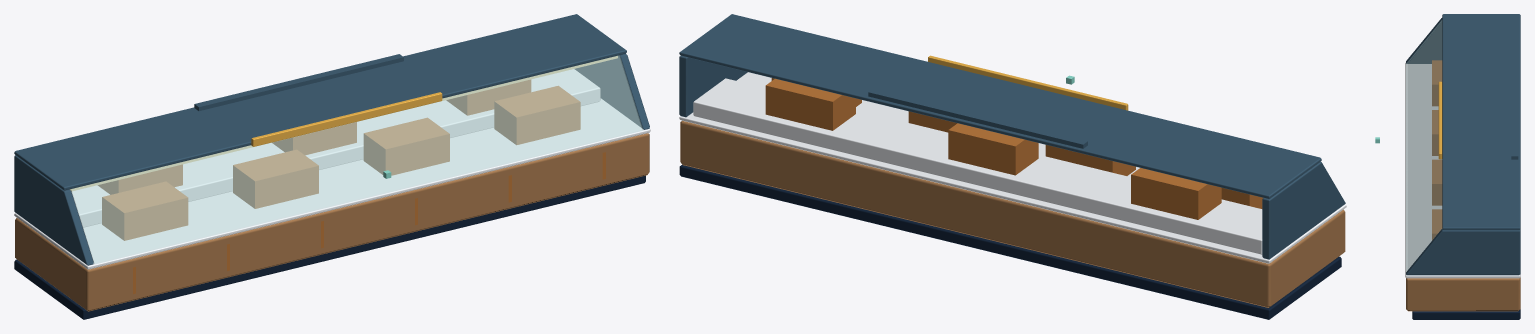
Rendered from CM_Fixture_BakeryCase_Far.fbx.
3 renders of one model, left to right at view 1: azimuth 30°, elevation 25°; view 2: azimuth 150°, elevation 25°; view 3: azimuth 270°, elevation 25°, orthographic. The views are drawn at different scales.
Parts seen in each view (by area): view 1: Body, Glass; view 2: Body; view 3: Body, Glass.
Boxes of the visible parts, x1=… form: Body: x1=14, y1=14, x2=650, y2=319; Glass: x1=71, y1=55, x2=642, y2=264; Body: x1=679, y1=14, x2=1346, y2=319; Body: x1=1405, y1=14, x2=1520, y2=319; Glass: x1=1406, y1=20, x2=1442, y2=271.
Size of the model in its own units: 22 by 6.3 by 4.6.
2 materials, 2 textured.
